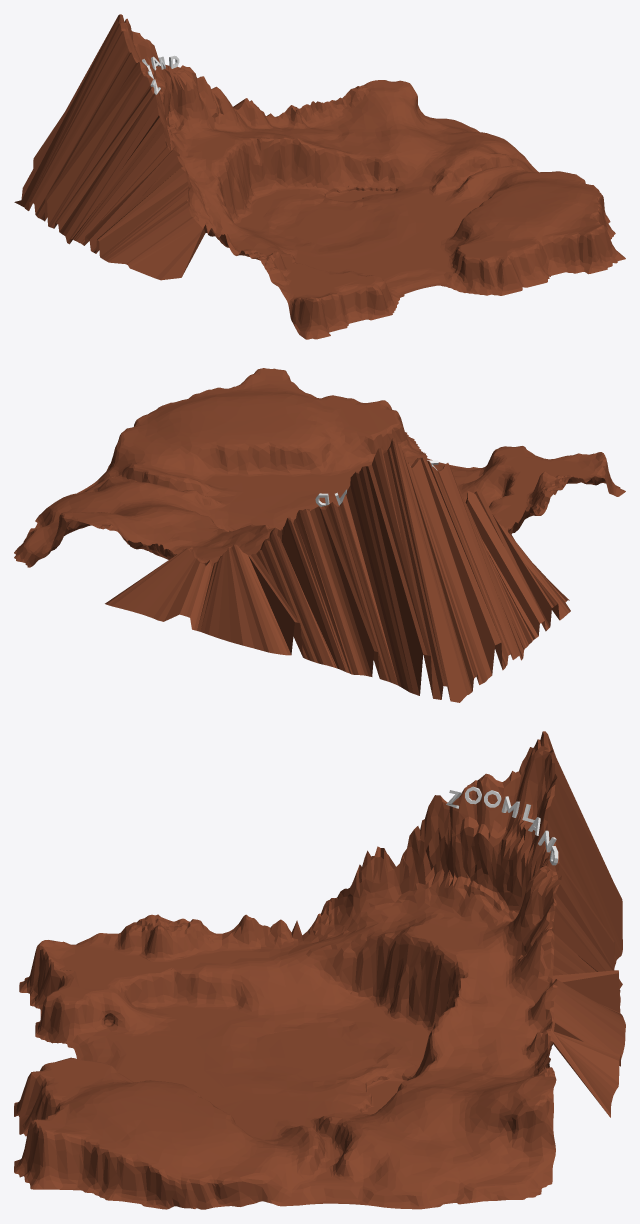
The model's file is Landscape.gltf.
3 views of the same model, one above another, from view 1: azimuth 30°, elevation 25°; view 2: azimuth 150°, elevation 25°; view 3: azimuth 270°, elevation 25° (orthographic). The views are drawn at different scales.
Parts seen in each view (by area): view 1: Map; view 2: Map; view 3: Map, Text.
Part boxes in pixels (<box>): Map: <box>14,14,625,339</box>; Map: <box>14,368,625,702</box>; Map: <box>14,731,625,1209</box>; Text: <box>446,786,558,865</box>.
Bounding box in the file's own units: 22.55 × 9.45 × 20.43.
Materials: 1 (1 with a texture image).
